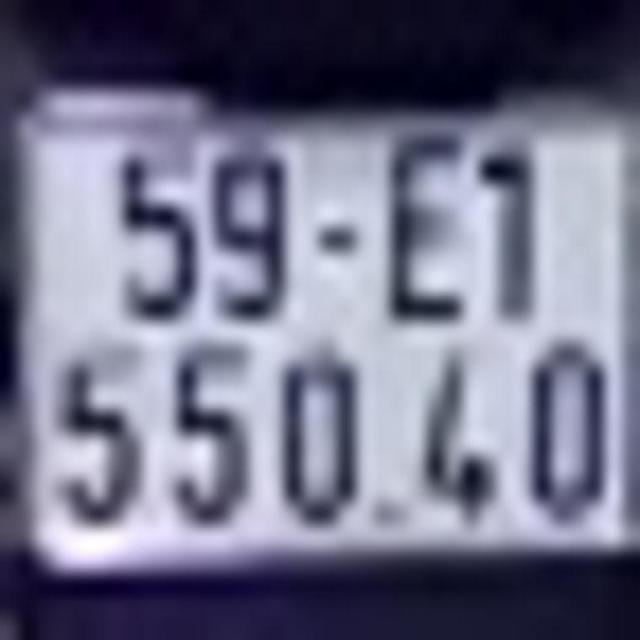0: (530, 329, 609, 529), (284, 342, 359, 526)
1: (482, 137, 538, 321)
4: (417, 342, 495, 522)
5: (60, 336, 148, 525), (118, 142, 198, 328), (177, 340, 256, 526)
9: (210, 138, 290, 327)
E: (386, 126, 468, 324)
